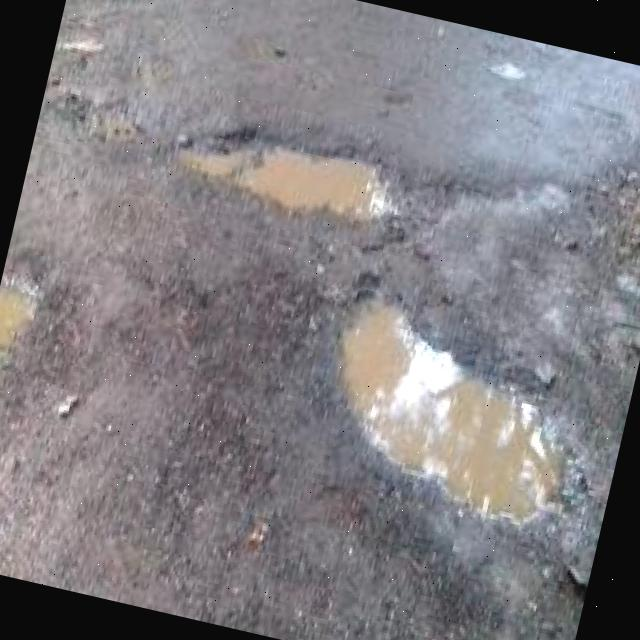stagnation: (286, 264, 617, 550), (161, 100, 432, 252), (0, 253, 64, 418)
